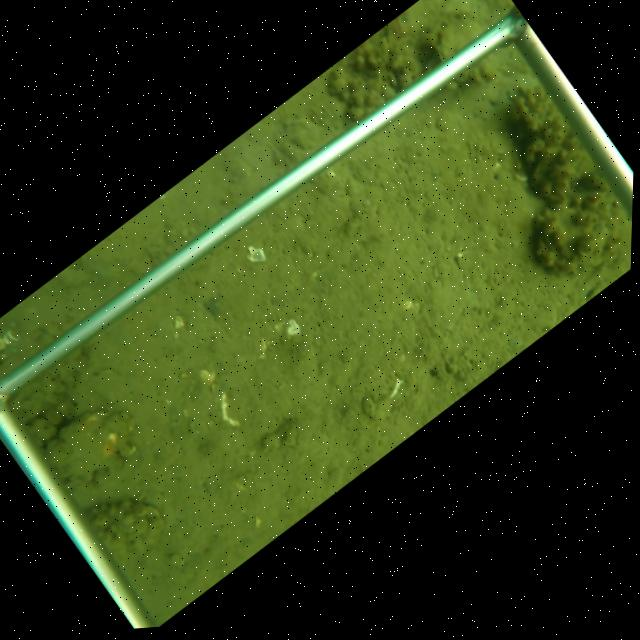Oyster-Closed: (436, 14, 482, 61)
Oyster-Indeterminate: (87, 494, 167, 560)
